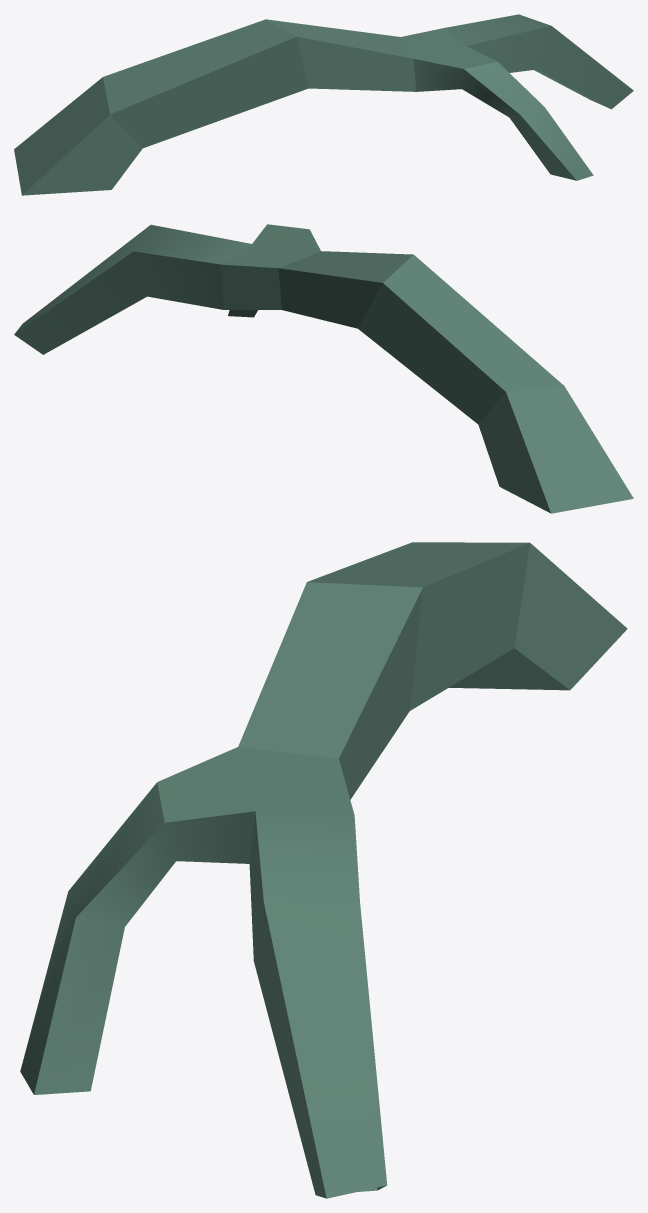
Rendered from raiz_2.fbx.
3 views of the same model, one above another, from view 1: azimuth 30°, elevation 25°; view 2: azimuth 150°, elevation 25°; view 3: azimuth 270°, elevation 25° (orthographic). The views are drawn at different scales.
Visible parts, largest first — view 1: p_raiz_mediana; view 2: p_raiz_mediana; view 3: p_raiz_mediana.
Boxes of the visible parts, left/top/right/bottom form: p_raiz_mediana: left=14, top=14, right=633, bottom=195; p_raiz_mediana: left=14, top=224, right=633, bottom=513; p_raiz_mediana: left=20, top=542, right=627, bottom=1198.
Bounding box in the file's own units: 127 × 32.03 × 57.91.
